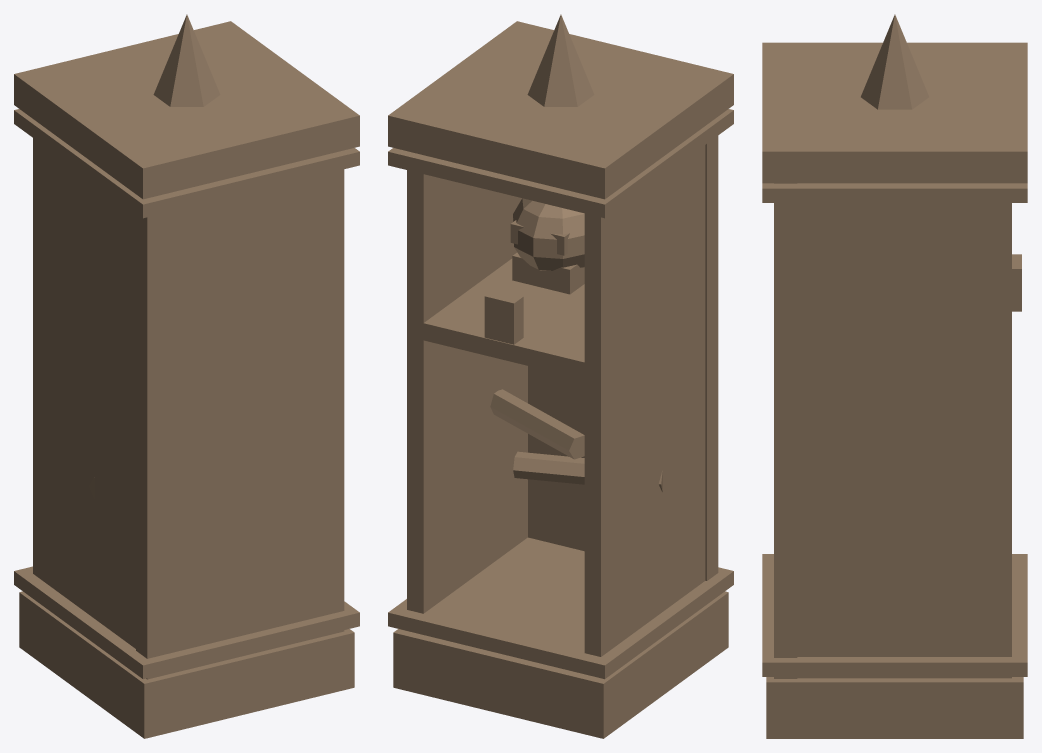
Rendered from aldrich_court_reliquary.fbx.
3 views of the same model, side by side, from view 1: azimuth 30°, elevation 25°; view 2: azimuth 150°, elevation 25°; view 3: azimuth 270°, elevation 25° (orthographic). The views are drawn at different scales.
Parts seen in each view (by area): view 1: aldrich_court_reliquary; view 2: aldrich_court_reliquary; view 3: aldrich_court_reliquary.
Boxes of the visible parts, x1=… form: aldrich_court_reliquary: x1=14, y1=14, x2=359, y2=738; aldrich_court_reliquary: x1=388, y1=14, x2=733, y2=738; aldrich_court_reliquary: x1=762, y1=14, x2=1027, y2=738.
Bounding box in the file's own units: 0.66 × 1.9 × 0.68.
